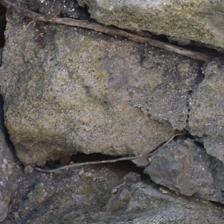Crack: (4, 98, 144, 224), (94, 40, 180, 126)
